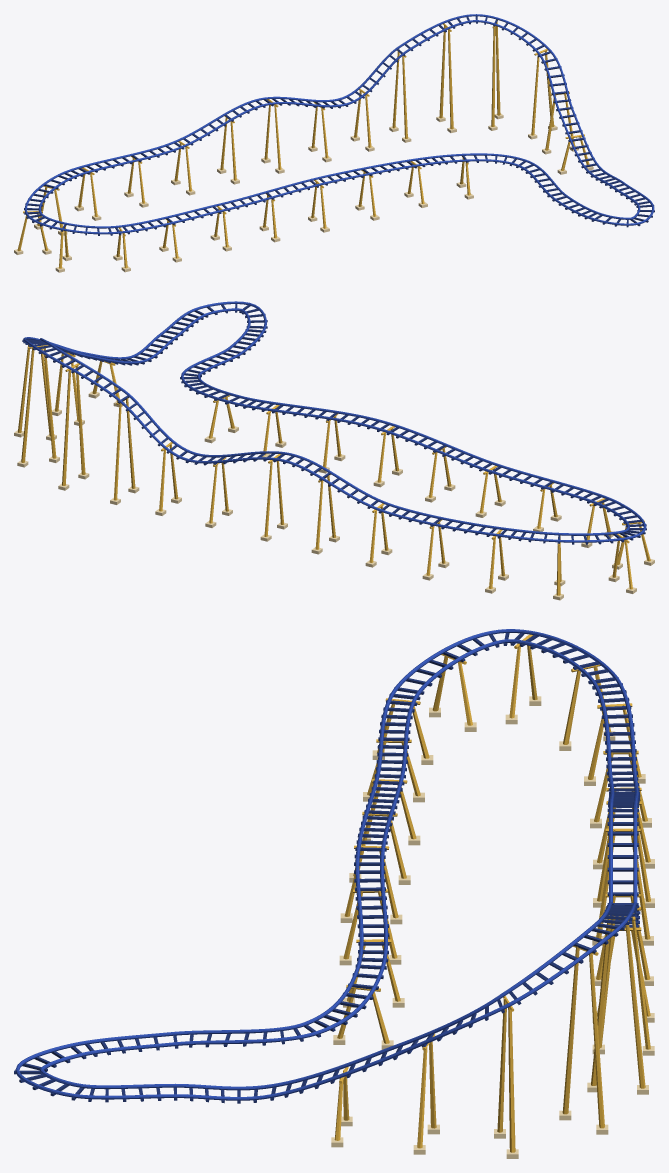
The model's file is coaster_track.glb.
The picture shows the model from 3 angles, top to bottom: view 1: azimuth 30°, elevation 25°; view 2: azimuth 150°, elevation 25°; view 3: azimuth 270°, elevation 25°; orthographic projection. The views are drawn at different scales.
Visible parts, largest first — view 1: coaster_track; view 2: coaster_track; view 3: coaster_track.
Part boxes in pixels (left/top/right/bottom): coaster_track: left=14, top=14, right=654, bottom=272; coaster_track: left=14, top=301, right=654, bottom=600; coaster_track: left=14, top=629, right=654, bottom=1158.
Bounding box in the file's own units: 55.69 × 10.5 × 32.93.
